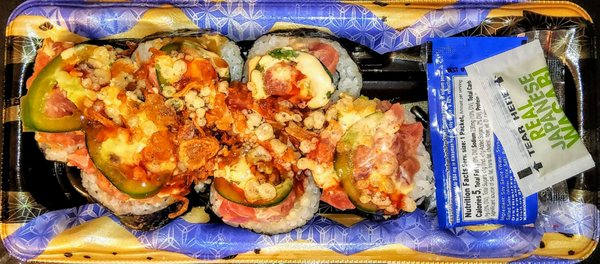curry: (7, 8, 599, 264)
